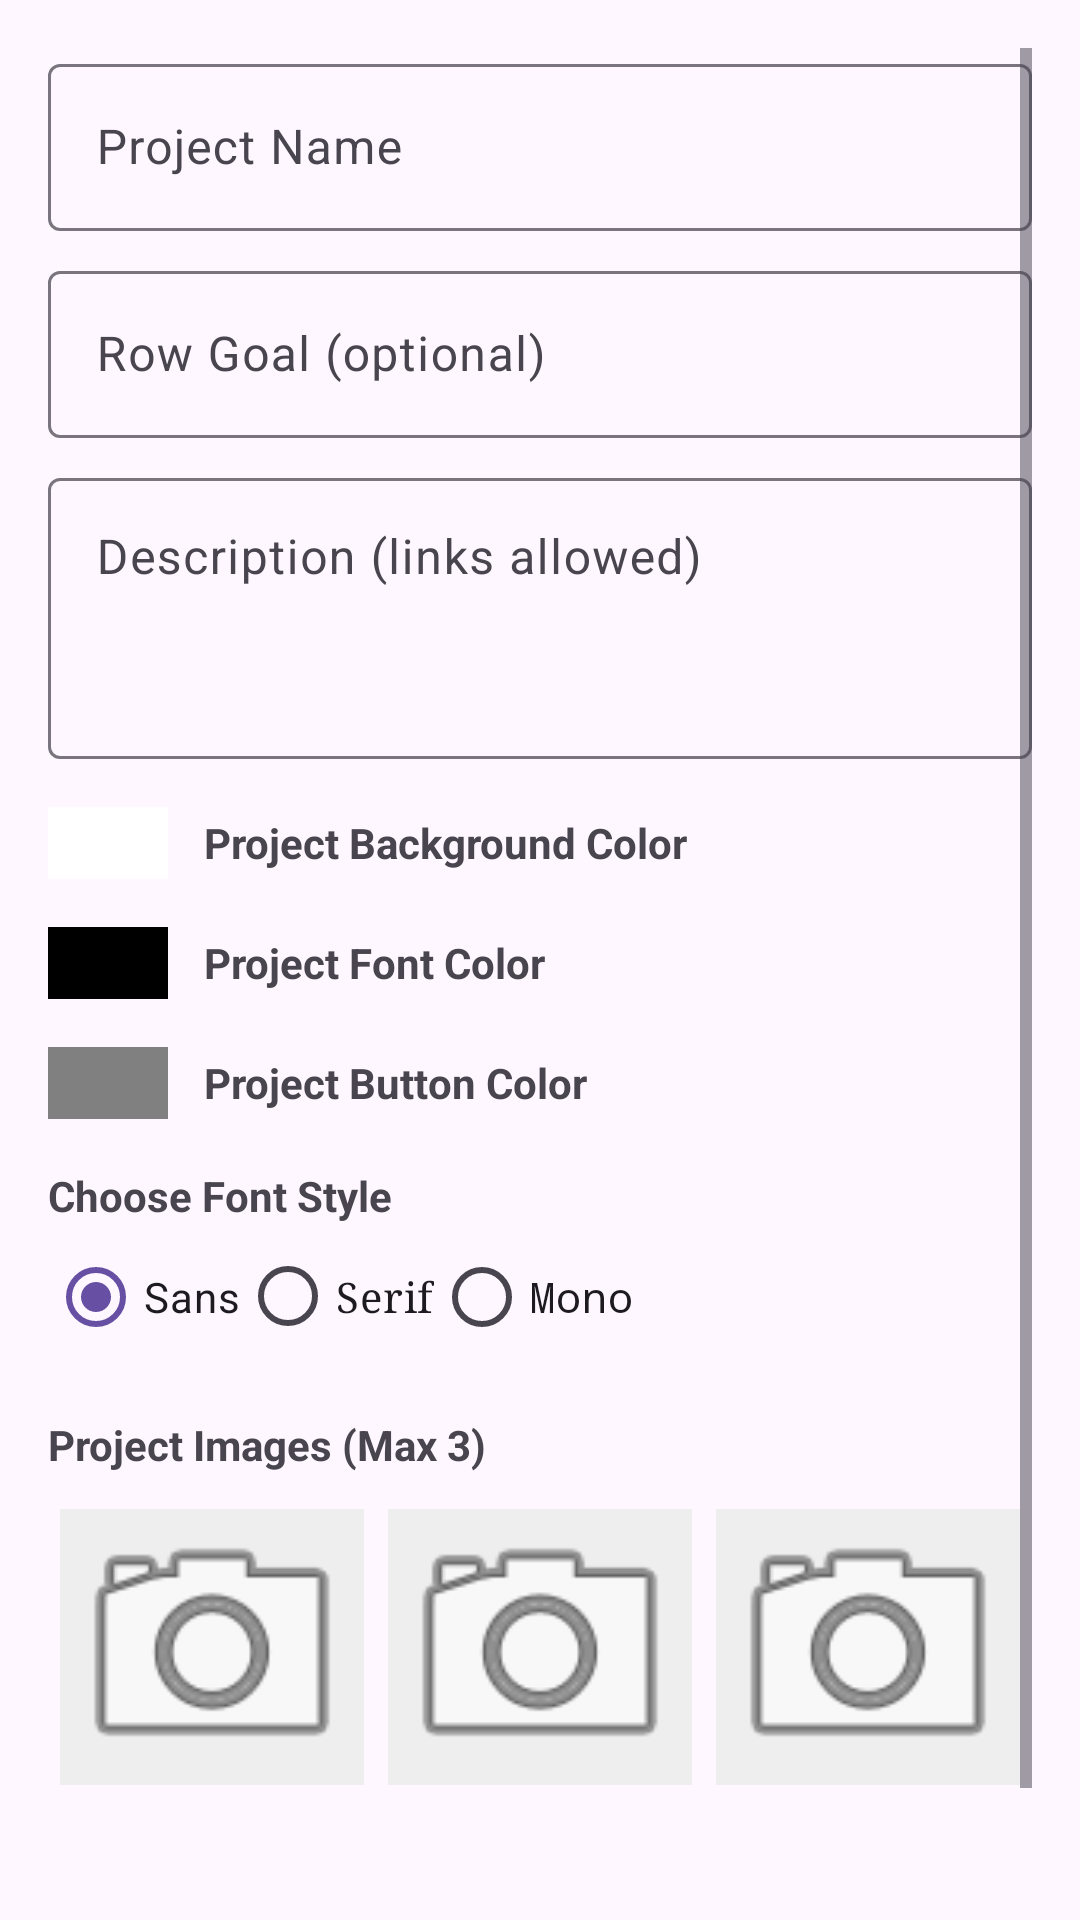

Icons on this 1080 × 1920 Android screen, each with its box as detection(x1, y1, x2, y2):
Project image preview: detection(60, 1509, 364, 1785), detection(388, 1509, 692, 1785), detection(716, 1509, 1020, 1785)
